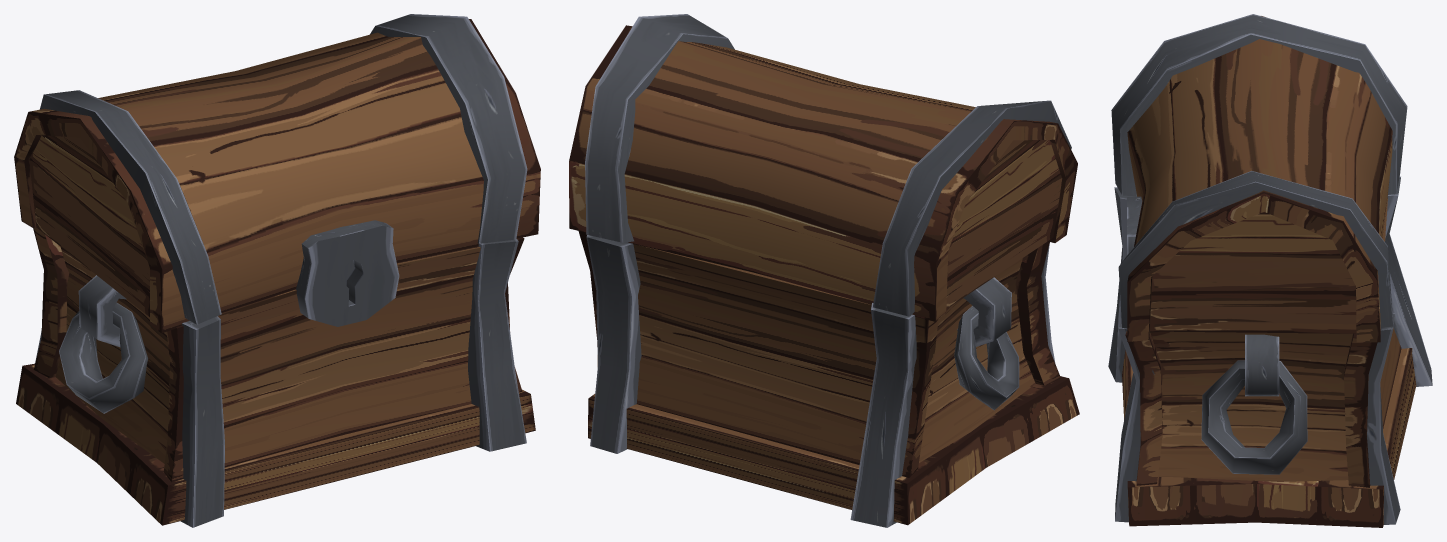
Rendered from SM_PROP_chest_dungeon_01.fbx.
3 views of the same model, side by side, from view 1: azimuth 30°, elevation 25°; view 2: azimuth 150°, elevation 25°; view 3: azimuth 270°, elevation 25° (orthographic). The views are drawn at different scales.
Visible parts, largest first — view 1: SM_PROP_chest_top_dungeon_01, SM_PROP_chest_dungeon_01; view 2: SM_PROP_chest_top_dungeon_01, SM_PROP_chest_dungeon_01; view 3: SM_PROP_chest_top_dungeon_01, SM_PROP_chest_dungeon_01.
Part boxes in pixels (<box>): SM_PROP_chest_top_dungeon_01: <box>14,14,540,333</box>; SM_PROP_chest_dungeon_01: <box>16,227,535,527</box>; SM_PROP_chest_top_dungeon_01: <box>569,14,1077,321</box>; SM_PROP_chest_dungeon_01: <box>578,231,1079,527</box>; SM_PROP_chest_top_dungeon_01: <box>1111,14,1407,342</box>; SM_PROP_chest_dungeon_01: <box>1108,176,1432,527</box>.
Size of the model in its own units: 77.75 by 70.36 by 58.44.
